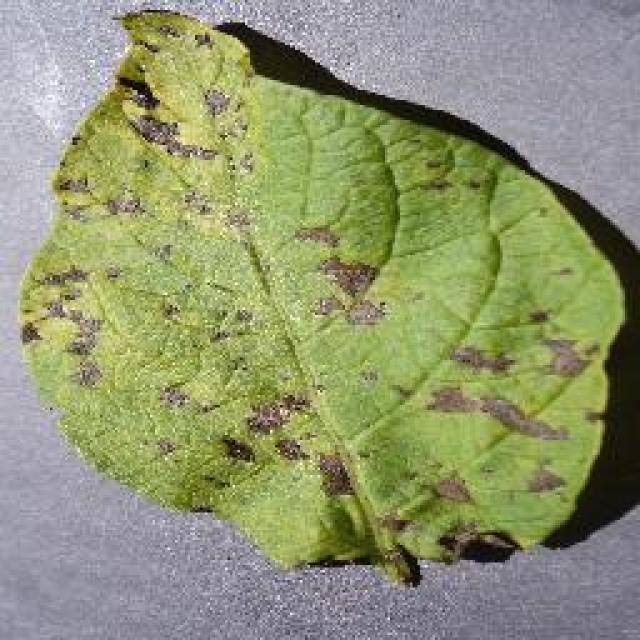early_blight: (12, 5, 632, 587)
